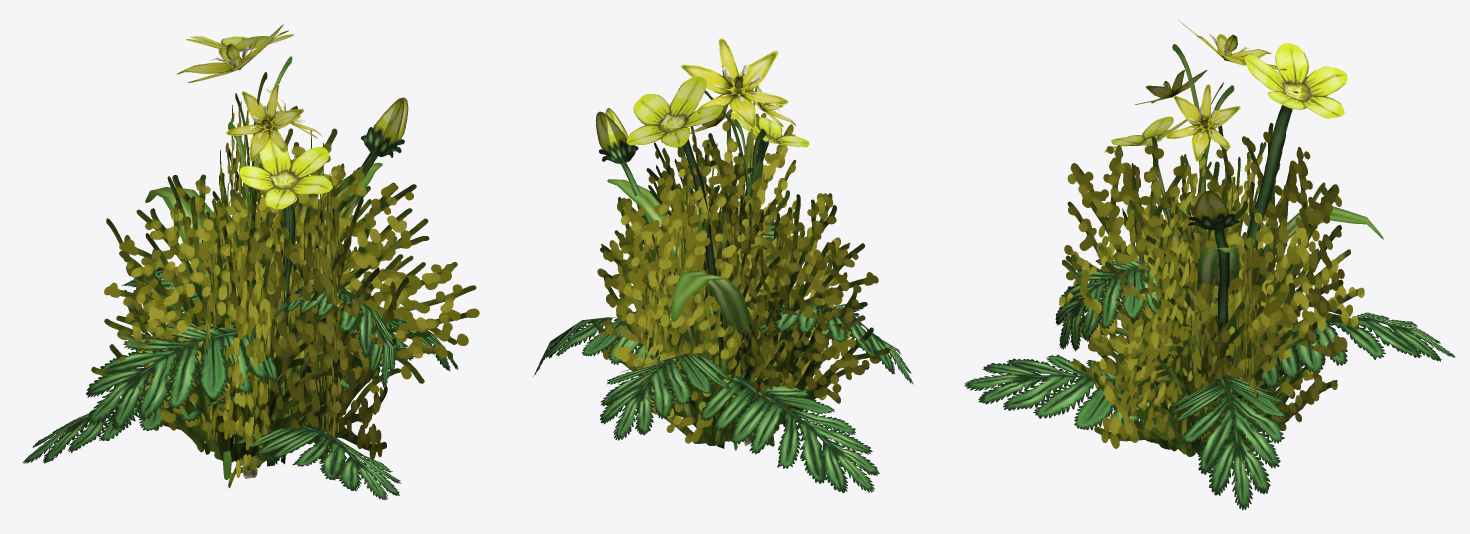
The model's file is Plants_1.fbx.
3 views of the same model, side by side, from view 1: azimuth 30°, elevation 25°; view 2: azimuth 150°, elevation 25°; view 3: azimuth 270°, elevation 25° (orthographic). The views are drawn at different scales.
Visible parts, largest first — view 1: Plant_1_3, Plant_1_1, Plant_1_2; view 2: Plant_1_3, Plant_1_1, Plant_1_2; view 3: Plant_1_3, Plant_1_1, Plant_1_2.
Boxes of the visible parts, left/top/right/bottom form: Plant_1_3: left=91, top=101, right=479, bottom=488; Plant_1_1: left=23, top=34, right=458, bottom=500; Plant_1_2: left=145, top=24, right=382, bottom=479; Plant_1_3: left=594, top=112, right=890, bottom=445; Plant_1_1: left=533, top=76, right=913, bottom=493; Plant_1_2: left=607, top=38, right=796, bottom=450; Plant_1_3: left=1059, top=122, right=1364, bottom=456; Plant_1_1: left=964, top=43, right=1455, bottom=510; Plant_1_2: left=1134, top=20, right=1383, bottom=430.
Bounding box in the file's own units: 48.63 × 51.19 × 52.22.
